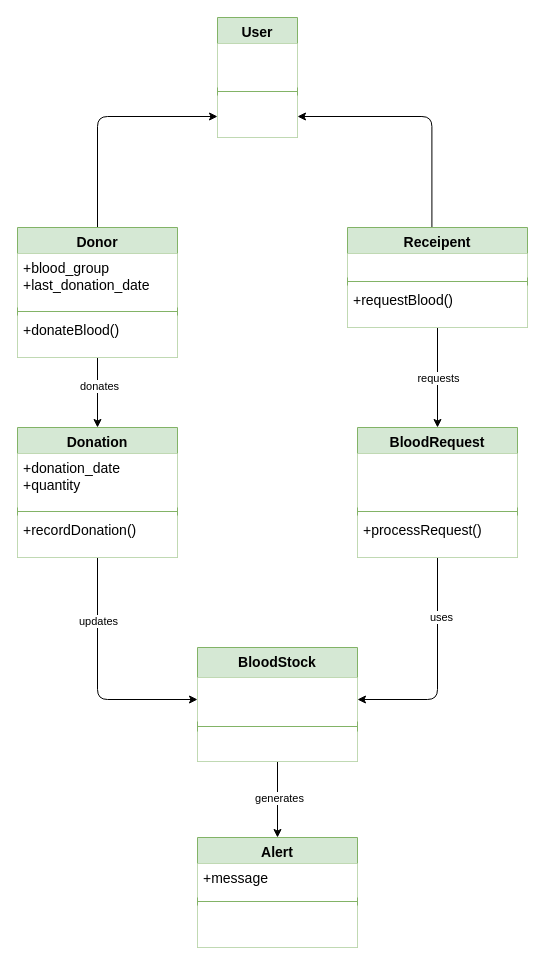
Image size: 545x968. Some labels were removed from this diagram. Here are the shapes that lost their labels. From the top down, the centre of each, then its label:
the point at 257,65: +id +name
the point at 257,116: +login()
the point at 437,265: +required_blood_group
the point at 437,480: +request_date +status
the point at 277,699: +blood_group +quantity
the point at 277,746: +updateStock()
the point at 277,926: +generateAlert()
